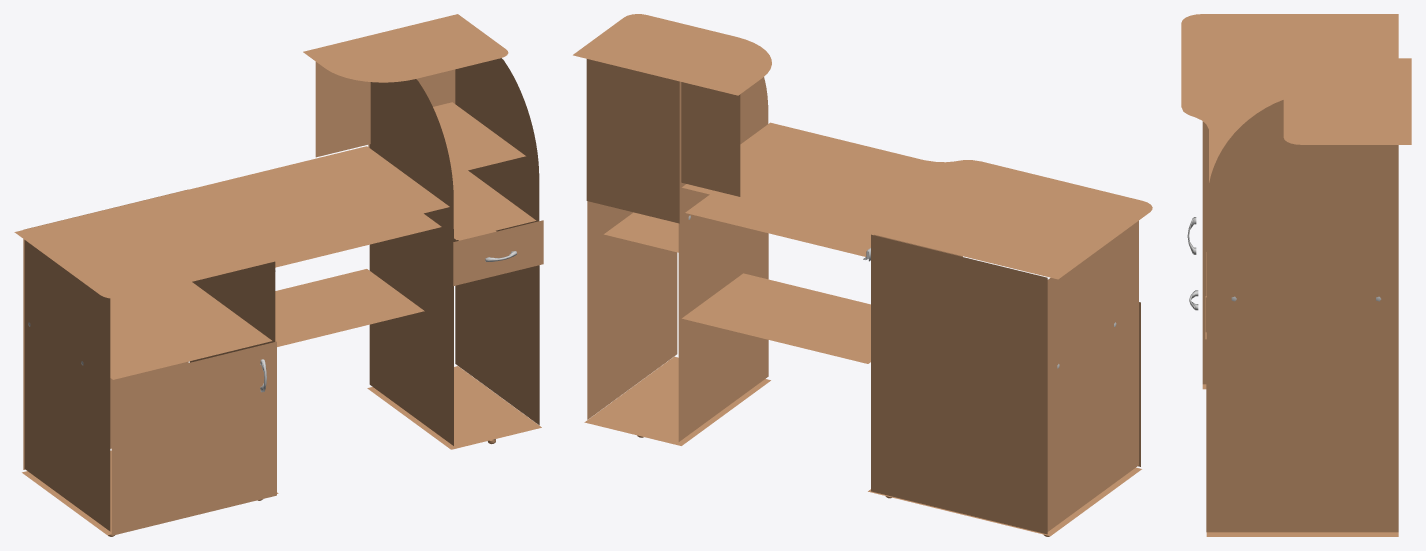
Rendered from desk.dae.
The picture shows the model from 3 angles, left to right: view 1: azimuth 30°, elevation 25°; view 2: azimuth 150°, elevation 25°; view 3: azimuth 270°, elevation 25°; orthographic projection. The views are drawn at different scales.
Visible parts, largest first — view 1: Desk; view 2: Desk; view 3: Desk, Handles.
Part boxes in pixels (left/top/right/bottom): Desk: left=14, top=14, right=543, bottom=536; Desk: left=573, top=14, right=1152, bottom=536; Desk: left=1181, top=14, right=1411, bottom=536; Handles: left=1187, top=217, right=1381, bottom=310.
Size of the model in its own units: 13.88 by 5.4 by 10.44.
